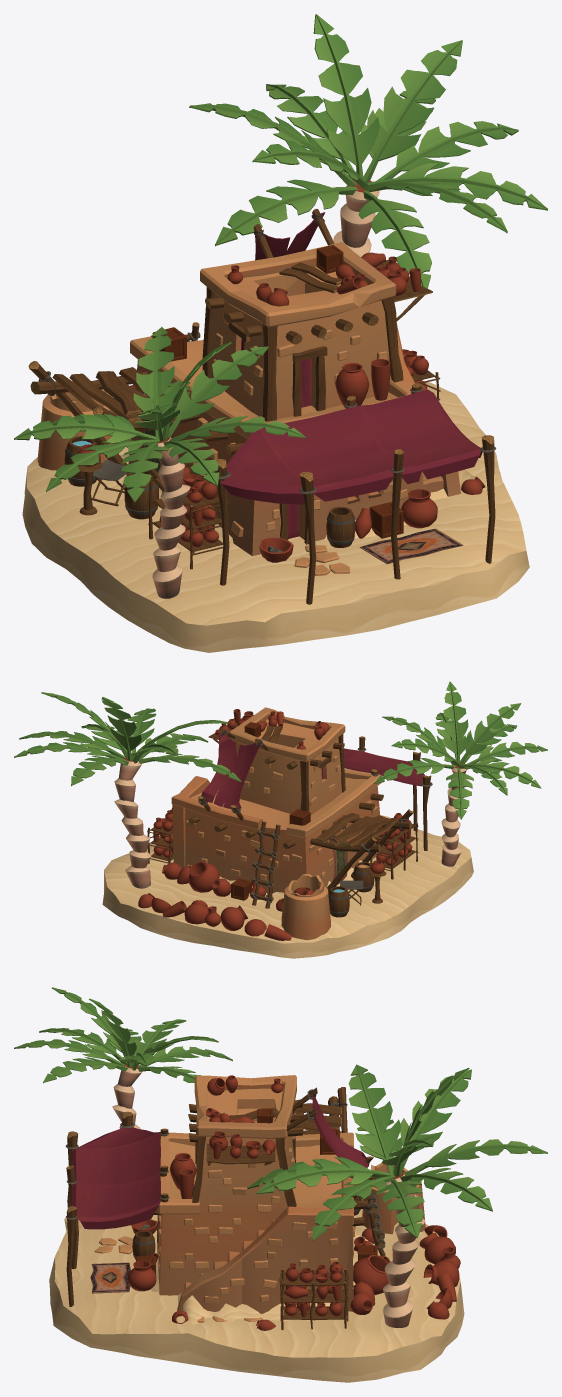
3 renders of one model, top to bottom at view 1: azimuth 30°, elevation 25°; view 2: azimuth 150°, elevation 25°; view 3: azimuth 270°, elevation 25°, orthographic. The views are drawn at different scales.
Visible parts, largest first — view 1: Pottery, GroundPlane; view 2: Pottery, GroundPlane; view 3: Pottery, GroundPlane.
Boxes of the visible parts, <box> form: Pottery: <box>14,14,547,604</box>; GroundPlane: <box>22,382,529,652</box>; Pottery: <box>14,681,547,940</box>; GroundPlane: <box>102,815,473,958</box>; Pottery: <box>14,987,547,1330</box>; GroundPlane: <box>49,1209,464,1382</box>.
Size of the model in its own units: 1911 by 1019 by 1699.
Materials: 2 (2 with a texture image).
